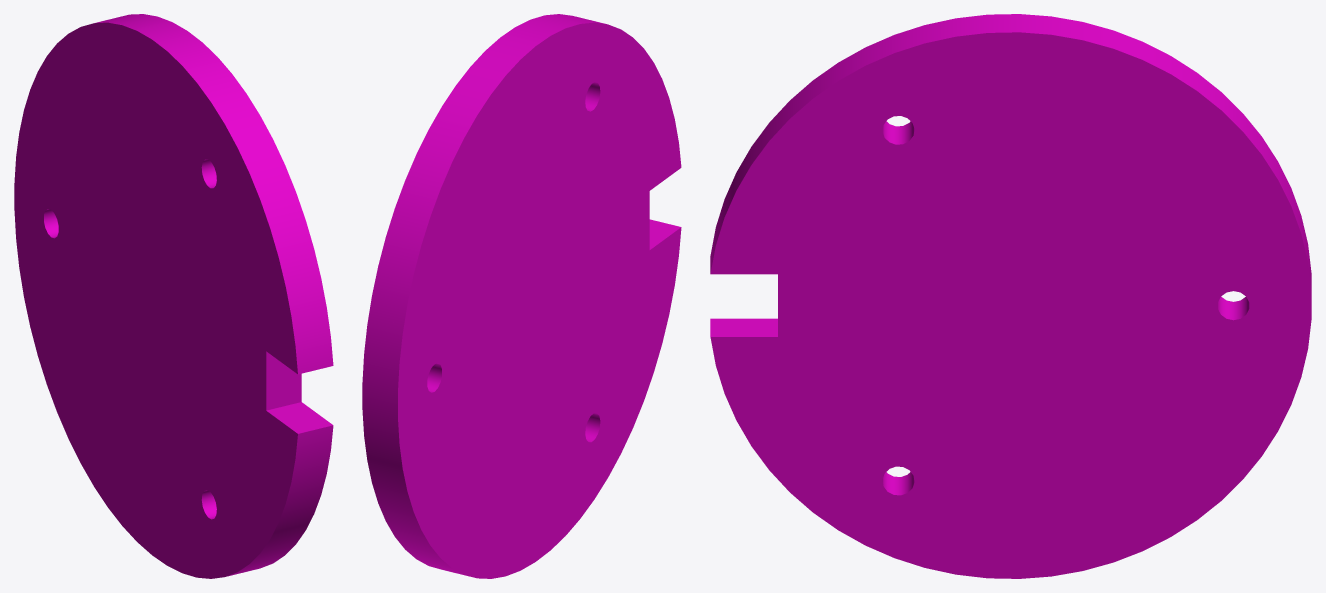
Rendered from Back Shielding.obj.
3 renders of one model, left to right at view 1: azimuth 30°, elevation 25°; view 2: azimuth 150°, elevation 25°; view 3: azimuth 270°, elevation 25°, orthographic. The views are drawn at different scales.
Parts seen in each view (by area): view 1: Solid1:9, Solid1:8, Solid1:7, Solid1:6, Solid1:5, Solid1:4, Solid1:3, Solid1:2, Solid1:1, Solid1; view 2: Solid1:9, Solid1:8, Solid1:7, Solid1:6, Solid1:4, Solid1:5, Solid1:3, Solid1:2, Solid1:1, Solid1; view 3: Solid1, Solid1:1, Solid1:2, Solid1:7, Solid1:3, Solid1:8, Solid1:5, Solid1:9, Solid1:6, Solid1:4.
Part boxes in pixels (left/top/right/bottom): Solid1:9: left=14, top=21, right=301, bottom=578; Solid1:8: left=47, top=21, right=304, bottom=575; Solid1:7: left=51, top=20, right=308, bottom=574; Solid1:6: left=54, top=19, right=312, bottom=574; Solid1:5: left=109, top=18, right=315, bottom=573; Solid1:4: left=112, top=17, right=319, bottom=572; Solid1:3: left=116, top=16, right=322, bottom=571; Solid1:2: left=120, top=15, right=326, bottom=570; Solid1:1: left=123, top=15, right=329, bottom=569; Solid1: left=127, top=14, right=333, bottom=568; Solid1:9: left=394, top=22, right=681, bottom=578; Solid1:8: left=391, top=21, right=677, bottom=576; Solid1:7: left=387, top=20, right=673, bottom=573; Solid1:6: left=383, top=19, right=670, bottom=573; Solid1:4: left=376, top=17, right=663, bottom=572; Solid1:5: left=380, top=18, right=666, bottom=572; Solid1:3: left=373, top=16, right=659, bottom=571; Solid1:2: left=369, top=15, right=656, bottom=570; Solid1:1: left=366, top=15, right=652, bottom=569; Solid1: left=362, top=14, right=573, bottom=566; Solid1: left=710, top=30, right=1311, bottom=578; Solid1:1: left=710, top=28, right=1311, bottom=493; Solid1:2: left=710, top=27, right=1311, bottom=491; Solid1:7: left=710, top=17, right=1311, bottom=482; Solid1:3: left=710, top=25, right=1311, bottom=489; Solid1:8: left=710, top=16, right=1311, bottom=480; Solid1:5: left=710, top=21, right=1311, bottom=486; Solid1:9: left=710, top=14, right=1311, bottom=478; Solid1:6: left=710, top=19, right=1311, bottom=484; Solid1:4: left=710, top=23, right=1311, bottom=487.
Size of the model in its own units: 5 by 69.47 by 69.22.
